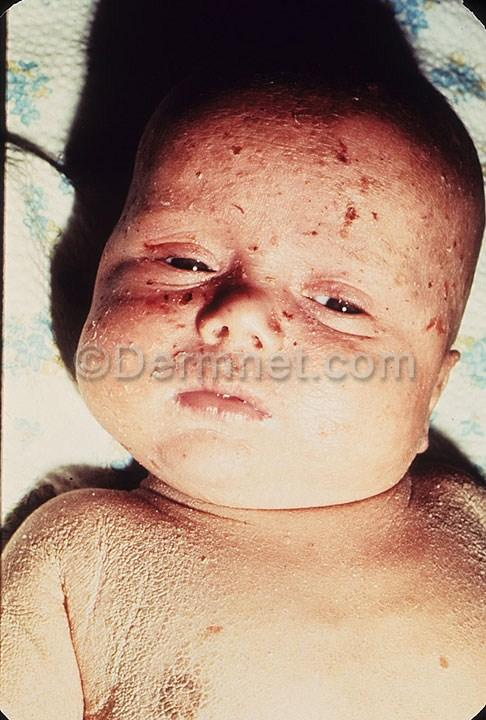exudacion 1: (125, 92, 483, 349), (85, 287, 200, 366)
xerosis 3: (0, 497, 209, 719), (425, 468, 485, 593)
